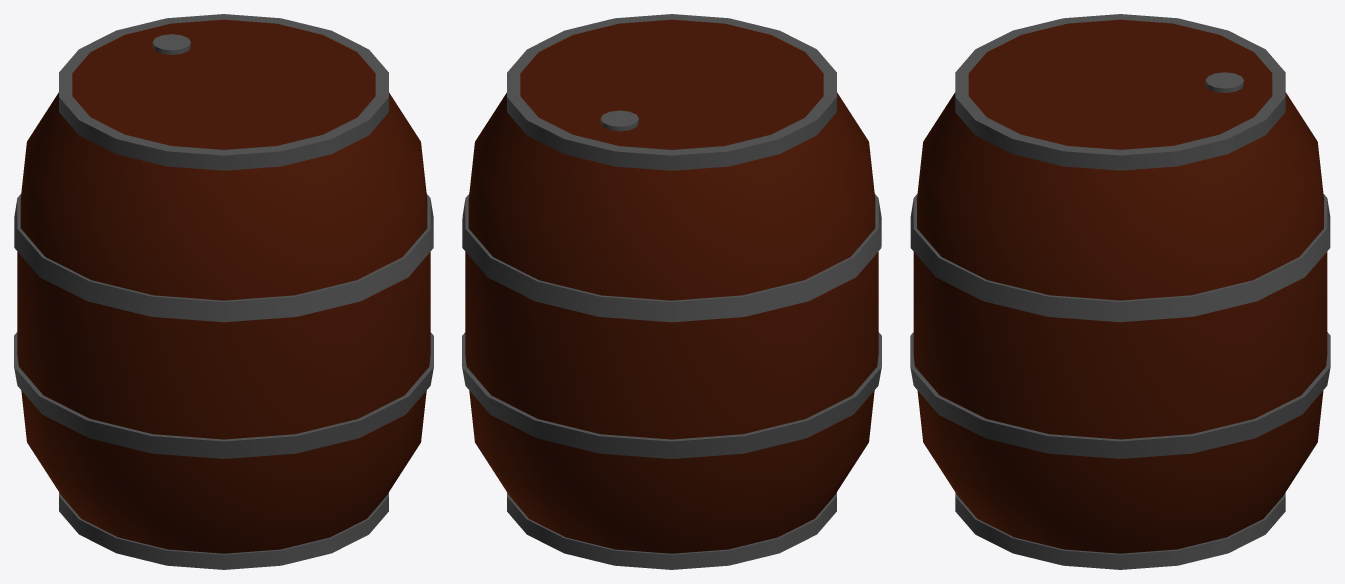
The model's file is DoABarrelRoll.FBX.
3 views of the same model, side by side, from view 1: azimuth 30°, elevation 25°; view 2: azimuth 150°, elevation 25°; view 3: azimuth 270°, elevation 25° (orthographic).
Visible parts, largest first — view 1: DoABarrrelRoll, Barrel_Metal; view 2: DoABarrrelRoll, Barrel_Metal; view 3: DoABarrrelRoll, Barrel_Metal.
Part boxes in pixels (box(x1,y1,x2,y2)): DoABarrrelRoll: box(17, 19, 430, 553); Barrel_Metal: box(14, 14, 433, 569); DoABarrrelRoll: box(465, 19, 878, 553); Barrel_Metal: box(462, 14, 881, 569); DoABarrrelRoll: box(913, 19, 1327, 553); Barrel_Metal: box(910, 14, 1330, 569).
Bounding box in the file's own units: 40.73 × 44.15 × 40.16.
